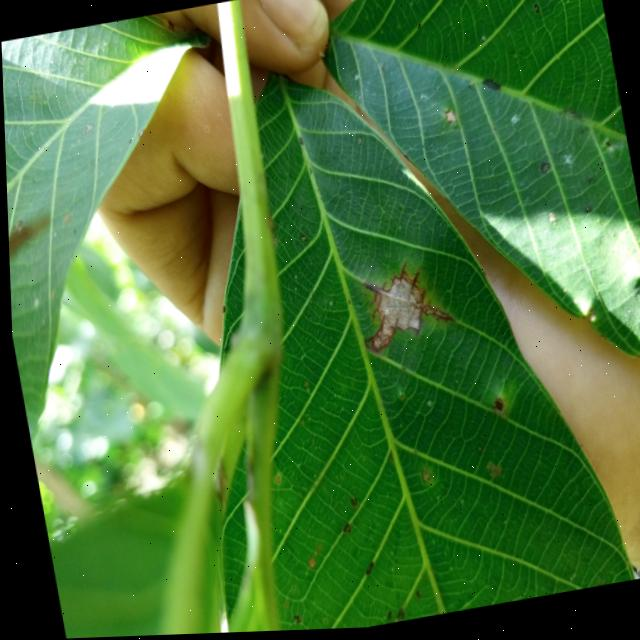Colletotrichum: (490, 403, 500, 416), (337, 526, 347, 537), (345, 500, 354, 511), (410, 595, 416, 602), (271, 479, 276, 485)
Corynespora: (353, 259, 455, 356)
Leaf-Blight: (360, 278, 424, 353)
